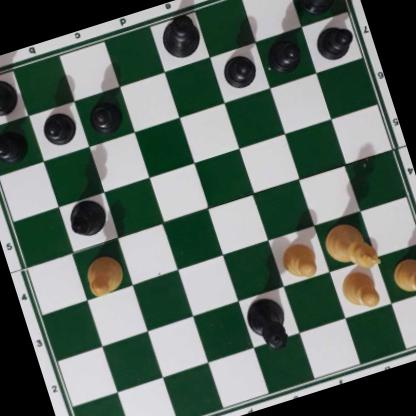black-bishop: (64, 196, 111, 243)
black-king: (155, 9, 207, 64)
black-pawn: (311, 19, 356, 64), (217, 48, 259, 92), (38, 107, 78, 150), (84, 95, 124, 137), (264, 34, 304, 75), (0, 124, 30, 165)
black-queen: (242, 292, 293, 356)
black-rook: (0, 69, 22, 124), (292, 0, 350, 17)
white-bishop: (81, 251, 130, 301)
white-king: (321, 217, 383, 280)
white-pawn: (337, 265, 384, 315), (277, 237, 321, 282), (388, 252, 416, 300)
